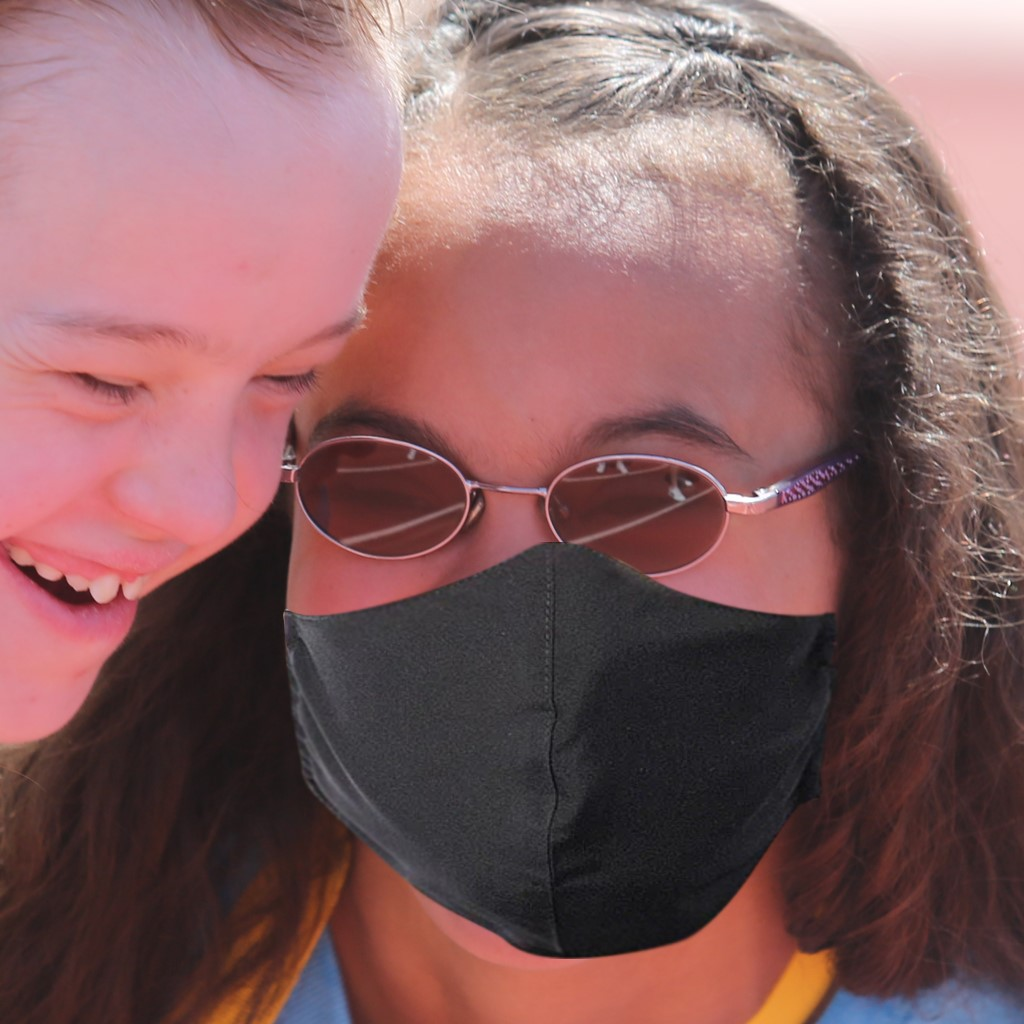con_mascara: (314, 84, 873, 949)
